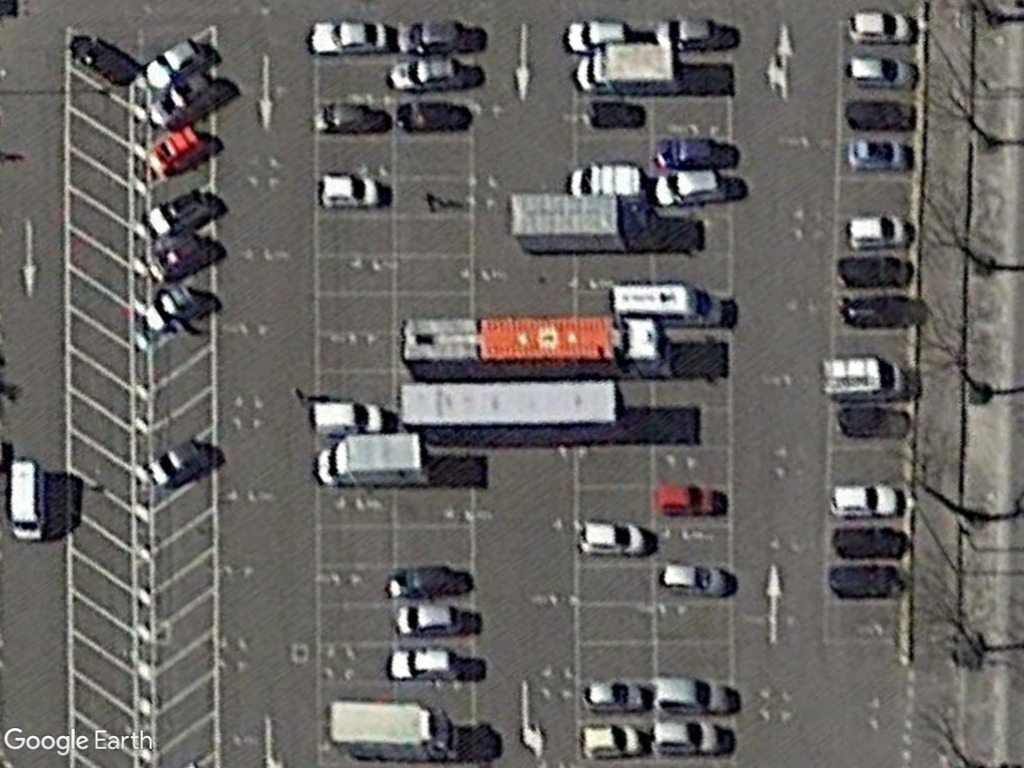bus: (399, 314, 674, 380), (395, 381, 633, 446)
car: (145, 438, 216, 489), (652, 675, 738, 716), (652, 165, 730, 209), (385, 55, 471, 92), (306, 17, 389, 55), (568, 158, 646, 198), (827, 481, 904, 521), (381, 565, 462, 603), (578, 517, 650, 558), (651, 719, 732, 755), (841, 53, 919, 90), (842, 9, 920, 46), (660, 563, 736, 600), (653, 482, 729, 519), (386, 647, 461, 684), (314, 171, 385, 209), (650, 17, 727, 51), (652, 136, 728, 170), (843, 136, 912, 173), (841, 214, 913, 249), (392, 600, 464, 635), (578, 723, 646, 760), (559, 18, 633, 52), (580, 680, 649, 716)
other: (820, 357, 908, 402)
truck: (506, 191, 667, 257), (326, 697, 465, 766), (314, 432, 435, 491), (575, 47, 681, 97)
van: (606, 281, 726, 329), (6, 456, 50, 543), (308, 398, 387, 434)
